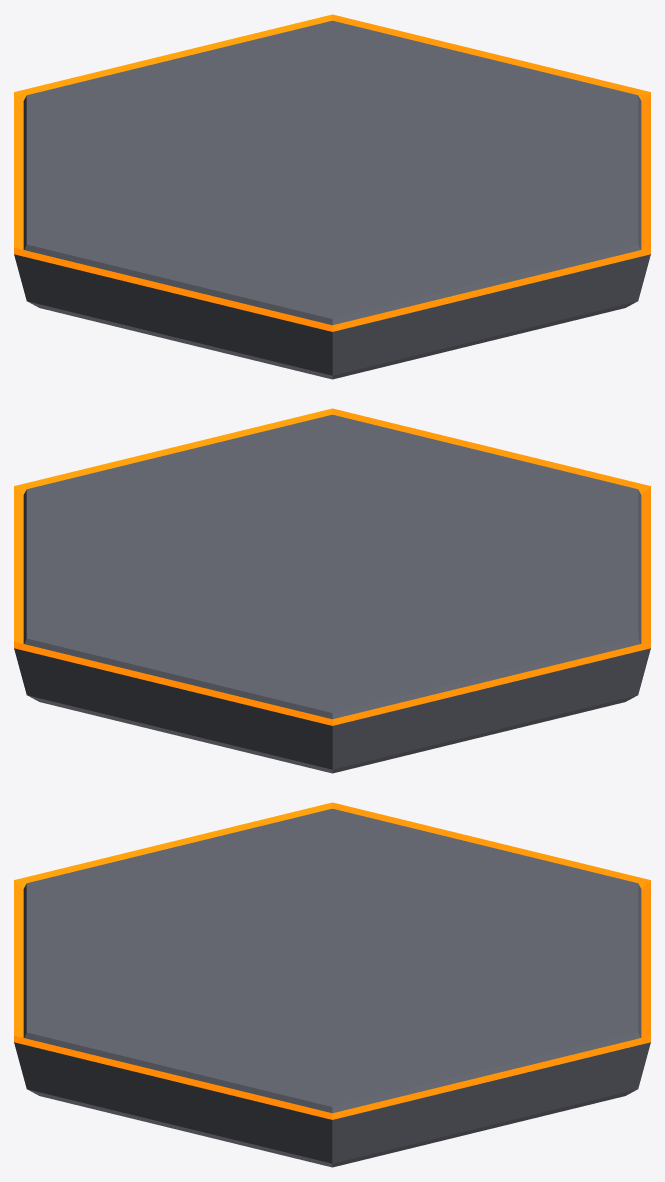
File: ENV_MOD_14_CollapsingHexTile.glb
3 views of the same model, one above another, from view 1: azimuth 30°, elevation 25°; view 2: azimuth 150°, elevation 25°; view 3: azimuth 270°, elevation 25° (orthographic).
Visible parts, largest first — view 1: SM_ENV_MOD_14_CollapsingHexTile; view 2: SM_ENV_MOD_14_CollapsingHexTile; view 3: SM_ENV_MOD_14_CollapsingHexTile.
Boxes of the visible parts, x1=… form: SM_ENV_MOD_14_CollapsingHexTile: x1=14, y1=14, x2=650, y2=379; SM_ENV_MOD_14_CollapsingHexTile: x1=14, y1=408, x2=650, y2=773; SM_ENV_MOD_14_CollapsingHexTile: x1=14, y1=802, x2=650, y2=1167.
Bounding box in the file's own units: 4 × 0.4 × 3.46.
